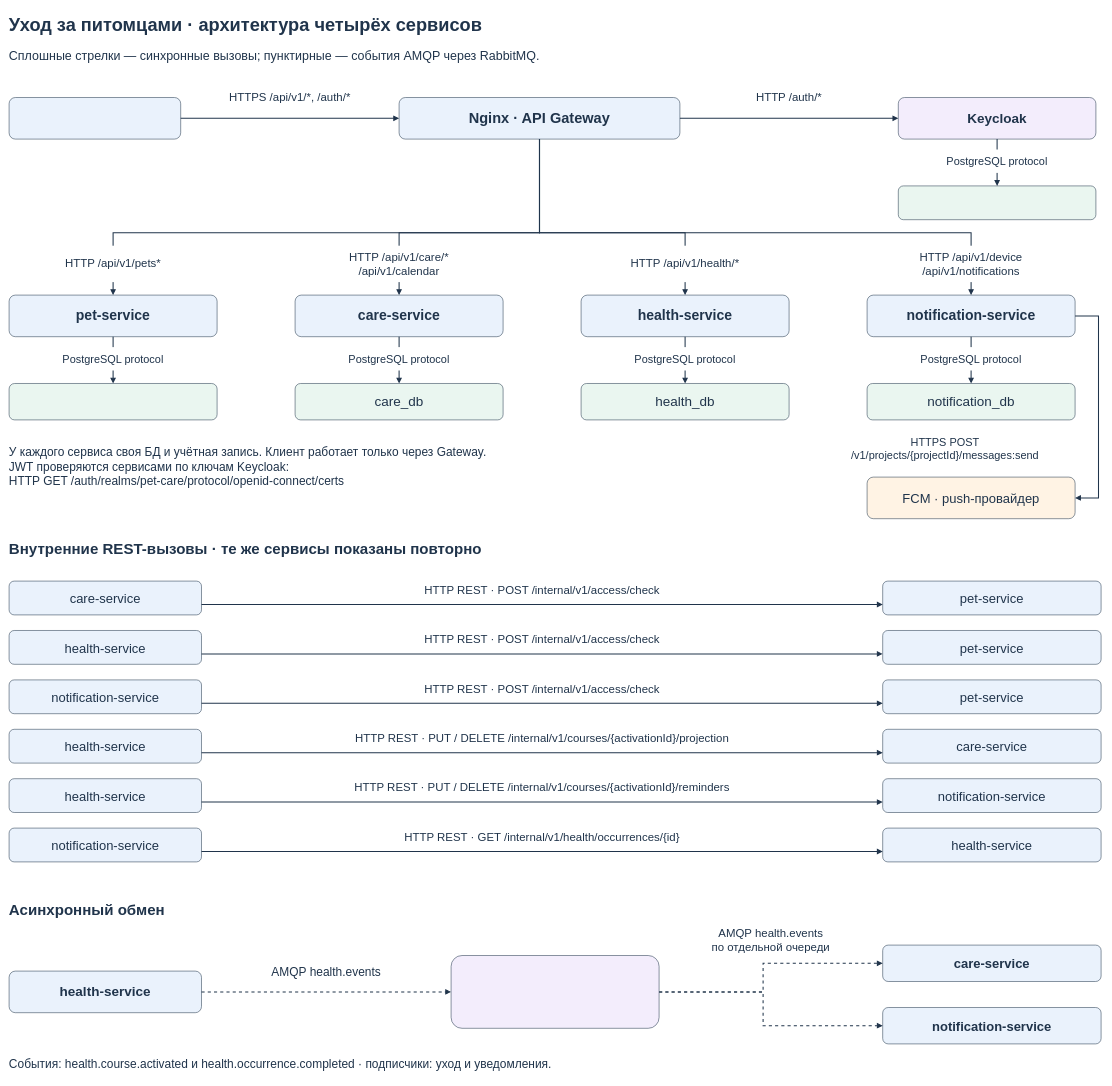
This 1112x1086 diagram has some shape labels left out. Each missing label, with the centre of its shape:
"keycloak_db" belongs at (x=997, y=202).
"pet_db" belongs at (x=113, y=401).
"RabbitMQ health.events" belongs at (x=555, y=991).
"Мобильный клиент" belongs at (x=95, y=118).
